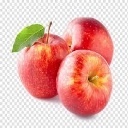apple: (60, 17, 114, 73)
